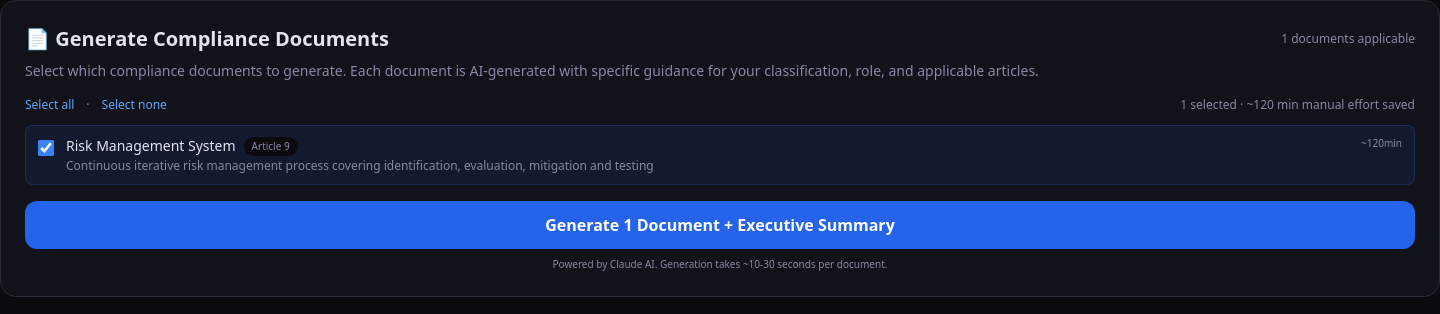
Test: L6-DG-X: Error state › DG-X01: shows 'Generation failed' on error
This screenshot has width=1440, height=314.
Step 1. Click the button "Generate 1 Document + Executive Summary" → (720, 225), box [25,201,1415,249]
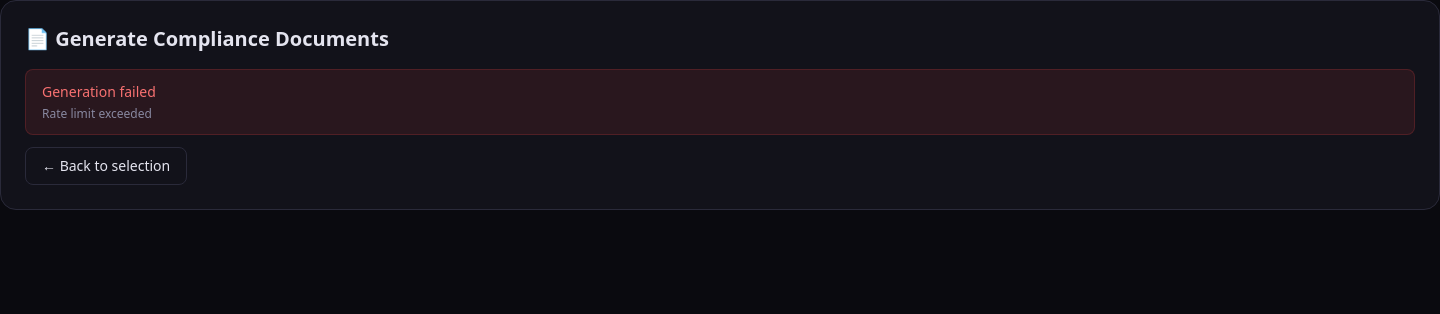
Result: the text "Generation failed" is shown at [42,82,156,101]
